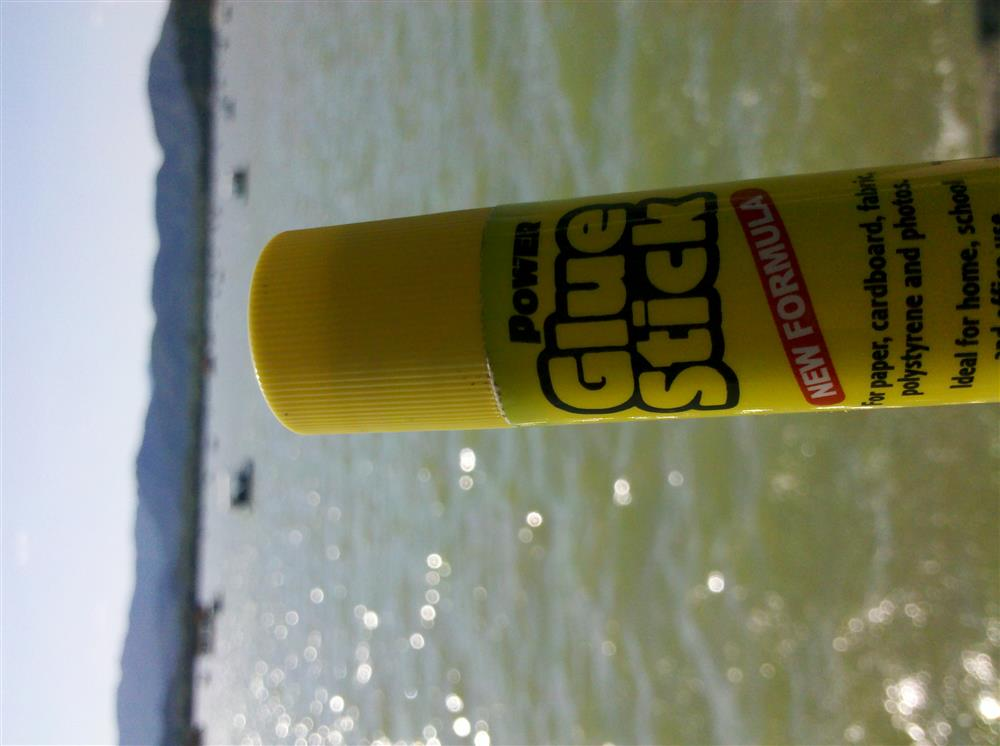Glue_stick: (250, 153, 997, 435)
